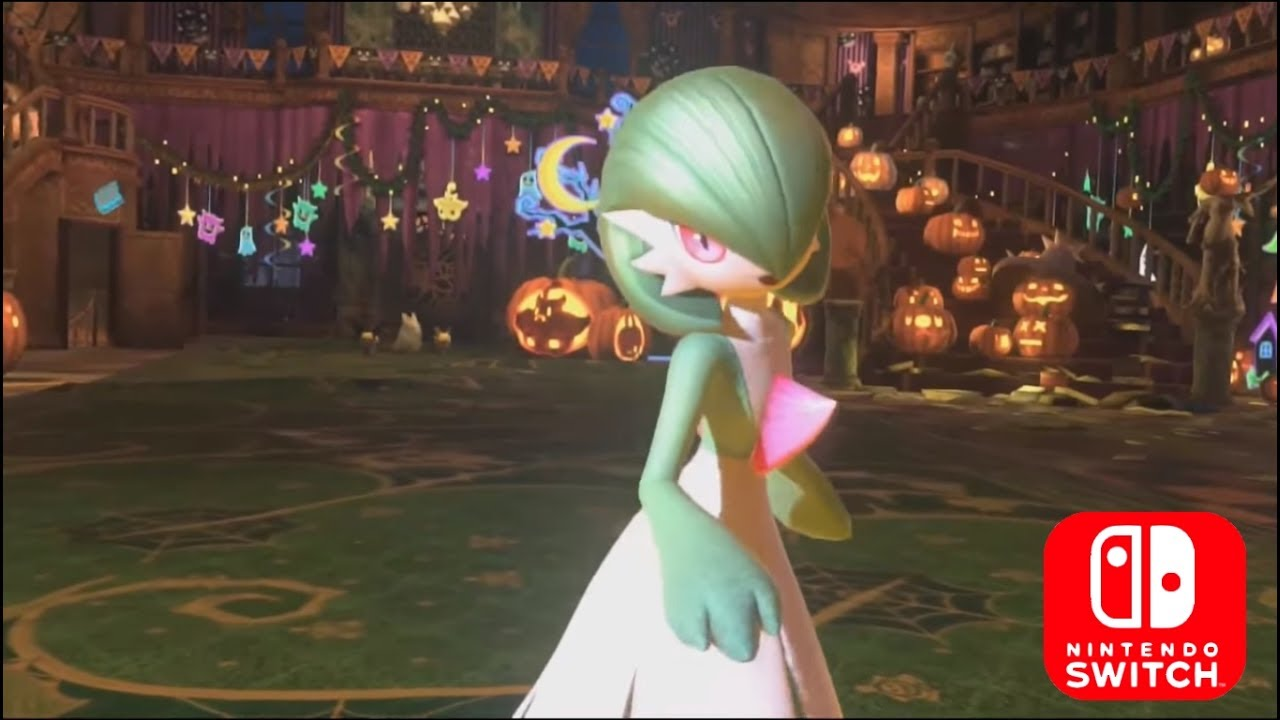gardevoir: (494, 67, 859, 717)
